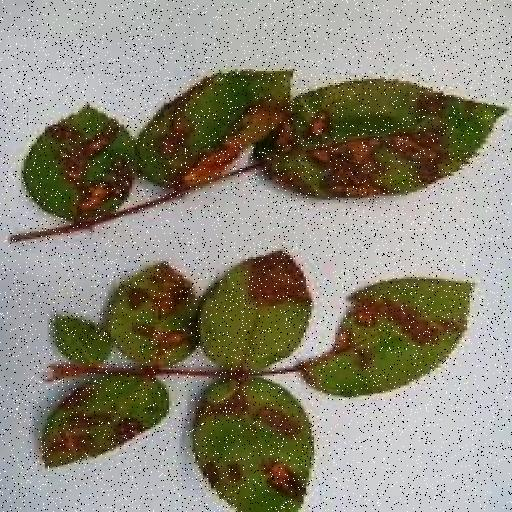downy_mildew: (256, 80, 503, 197), (300, 279, 471, 395), (137, 72, 291, 187), (192, 380, 313, 511), (200, 252, 310, 371), (23, 107, 133, 221), (42, 376, 167, 466), (108, 263, 196, 365), (52, 317, 109, 365)
